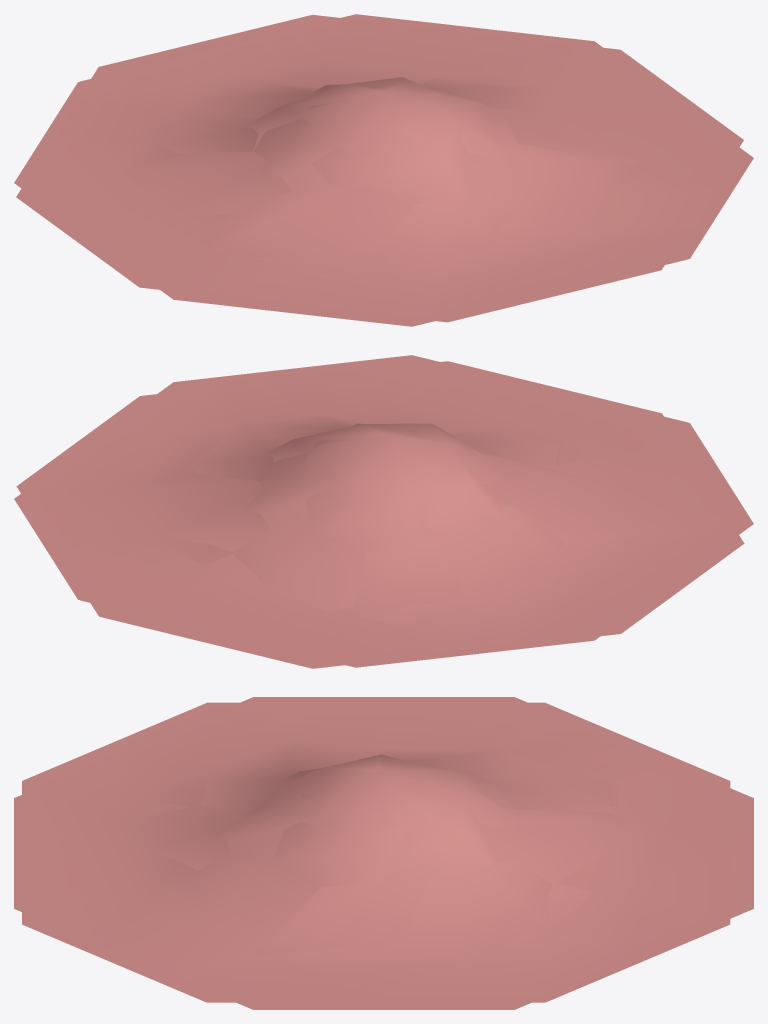
Rendered from leafHeap.fbx.
3 renders of one model, top to bottom at view 1: azimuth 30°, elevation 25°; view 2: azimuth 150°, elevation 25°; view 3: azimuth 270°, elevation 25°, orthographic. The views are drawn at different scales.
Parts seen in each view (by area): view 1: Plane.097; view 2: Plane.097; view 3: Plane.097.
Part boxes in pixels (x1,y1,x2,y2): Plane.097: (14,14,753,326); Plane.097: (14,355,753,668); Plane.097: (14,697,753,1009).
Size of the model in its own units: 5.02 by 0.619 by 5.02.
